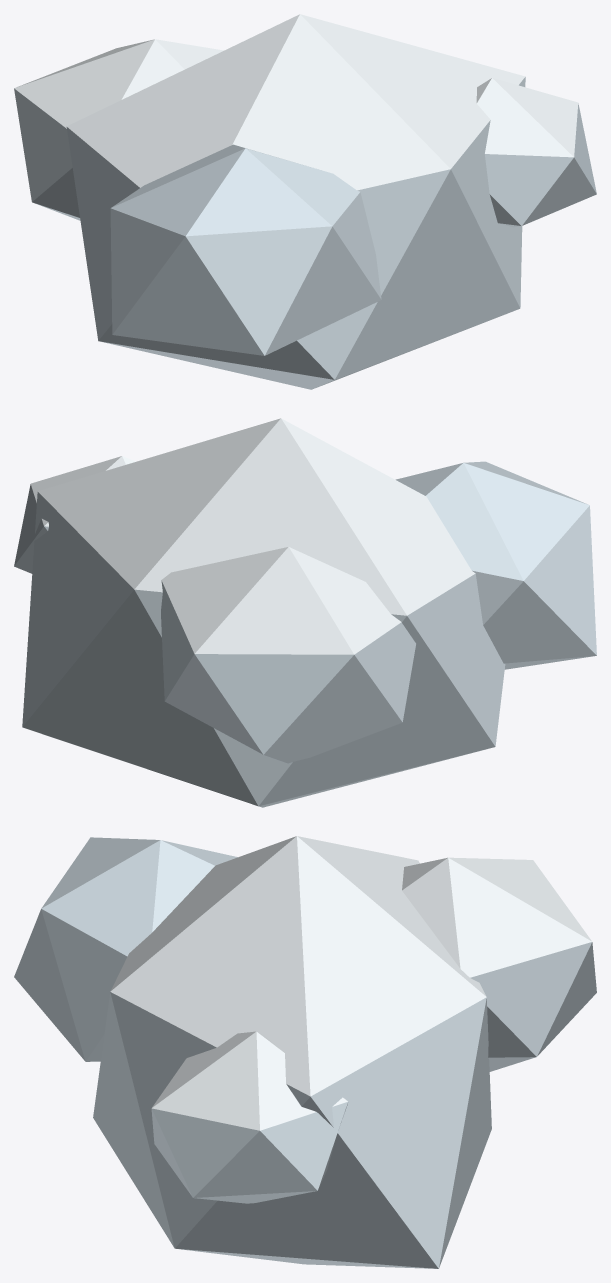
Rendered from snowbank_small.glb.
The picture shows the model from 3 angles, top to bottom: view 1: azimuth 30°, elevation 25°; view 2: azimuth 150°, elevation 25°; view 3: azimuth 270°, elevation 25°; orthographic projection. The views are drawn at different scales.
Visible parts, largest first — view 1: snowbank_small; view 2: snowbank_small; view 3: snowbank_small.
Boxes of the visible parts, x1,y1,x2,y2 form: snowbank_small: [14, 14, 596, 389]; snowbank_small: [14, 418, 596, 807]; snowbank_small: [14, 836, 596, 1268].
Size of the model in its own units: 0.836 by 0.5982 by 0.7515.
